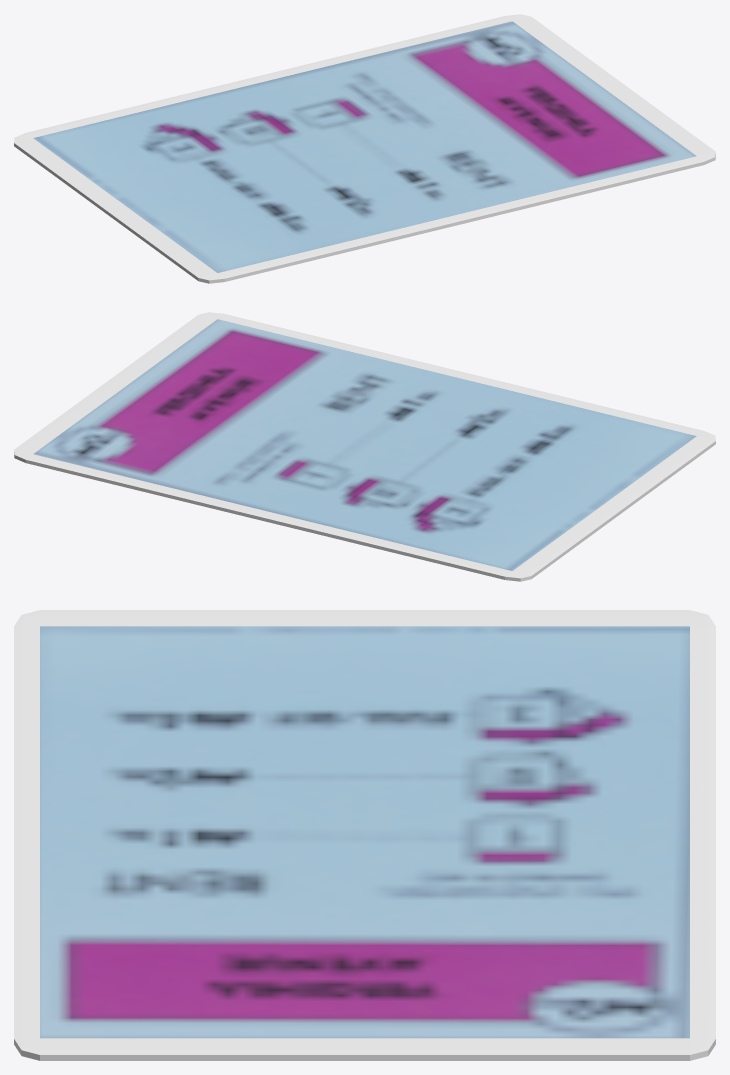
The model's file is virginia.glb.
The picture shows the model from 3 angles, top to bottom: view 1: azimuth 30°, elevation 25°; view 2: azimuth 150°, elevation 25°; view 3: azimuth 270°, elevation 25°; orthographic projection. The views are drawn at different scales.
Visible parts, largest first — view 1: Cube; view 2: Cube; view 3: Cube.
Part boxes in pixels (bbox=[...]): Cube: bbox=[14, 14, 715, 283]; Cube: bbox=[14, 312, 715, 581]; Cube: bbox=[14, 610, 715, 1060].
Bounding box in the file's own units: 0.6 × 0.004 × 0.4.
Materials: 3 (2 with a texture image).
